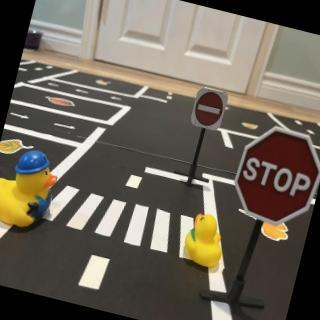duck_regular: (178, 211, 232, 274)
duck_specialty: (1, 142, 63, 236)
road_crosswalk: (40, 179, 212, 267)
road_oneway: (53, 120, 79, 135), (8, 109, 32, 124), (74, 86, 92, 97), (109, 93, 124, 105), (46, 81, 62, 91)
sign_noentry: (189, 87, 231, 136)
sign_stop: (226, 120, 320, 234)
